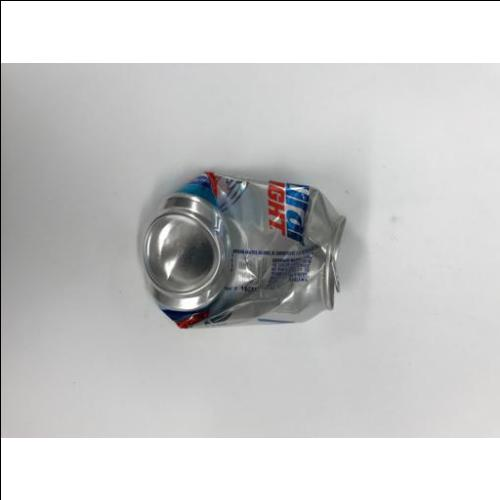metal: (152, 169, 349, 329)
